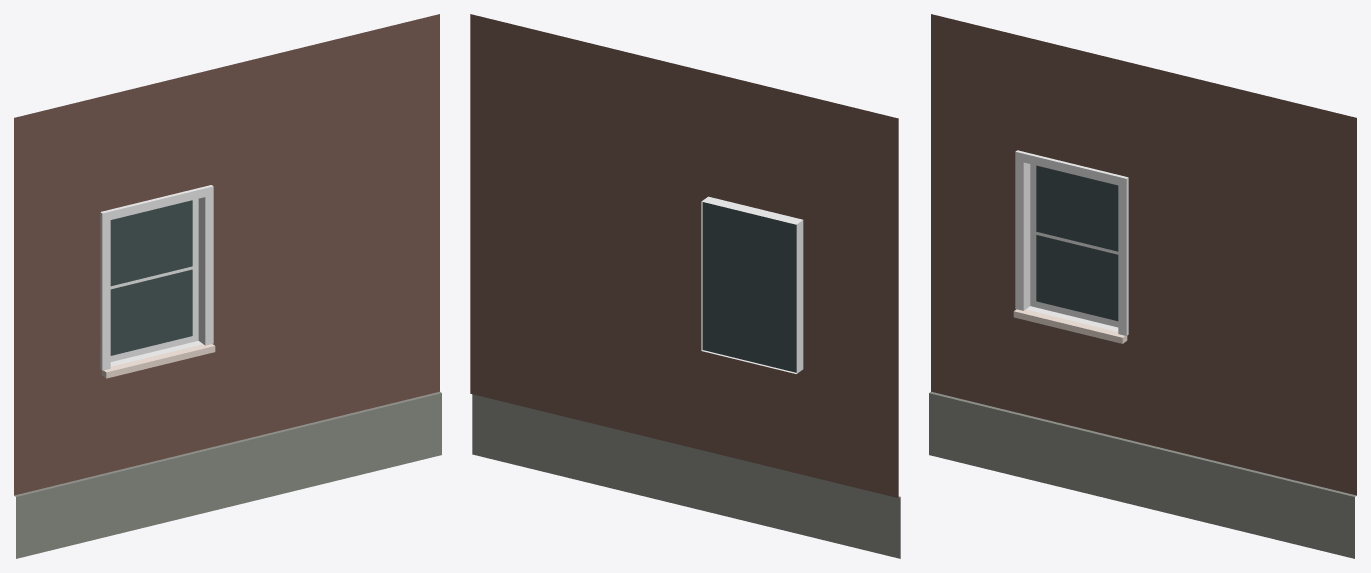
3 views of the same model, side by side, from view 1: azimuth 30°, elevation 25°; view 2: azimuth 150°, elevation 25°; view 3: azimuth 330°, elevation 25° (orthographic).
Visible parts, largest first — view 1: a2000s2/800/base-w2; view 2: a2000s2/800/base-w2; view 3: a2000s2/800/base-w2.
Part boxes in pixels (x1,y1,x2,y2): a2000s2/800/base-w2: (14, 14, 441, 558); a2000s2/800/base-w2: (470, 14, 900, 558); a2000s2/800/base-w2: (929, 14, 1356, 558).
Size of the model in its own units: 3.6 by 3.55 by 0.17.
